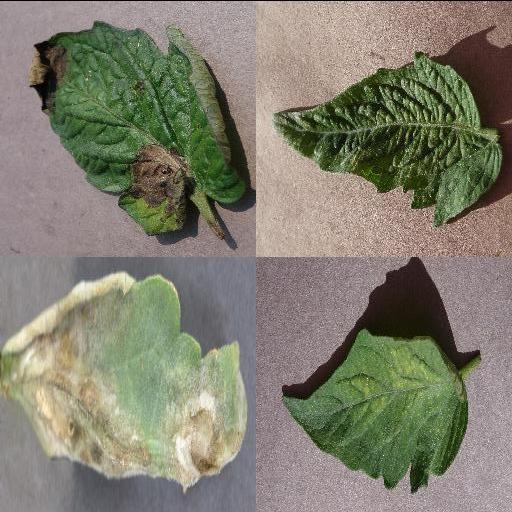Late Blight: (0, 269, 248, 492), (29, 19, 247, 235)
Spider Mites: (271, 51, 503, 225), (281, 326, 471, 492)
